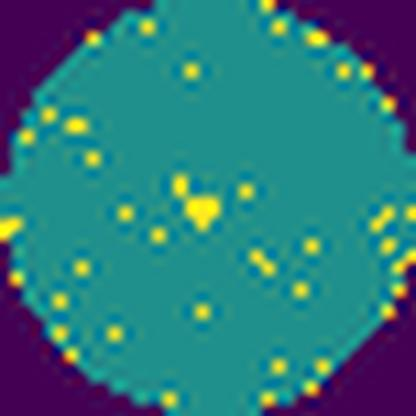Center: (180, 186, 224, 236)
